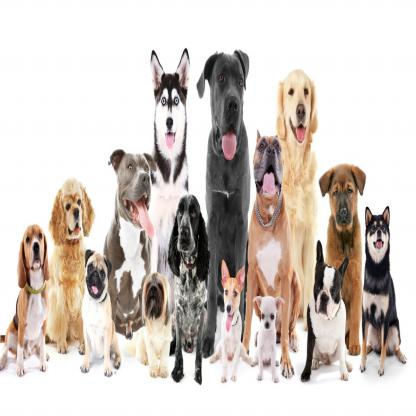dog: (196, 49, 250, 356), (243, 131, 302, 379), (150, 47, 190, 329), (275, 69, 317, 330), (104, 149, 156, 345), (318, 162, 366, 363), (46, 180, 95, 354), (359, 208, 407, 378), (168, 195, 210, 387), (1, 225, 50, 375), (302, 239, 353, 383), (82, 247, 122, 376), (212, 260, 254, 382), (125, 272, 170, 379), (252, 296, 280, 384)
